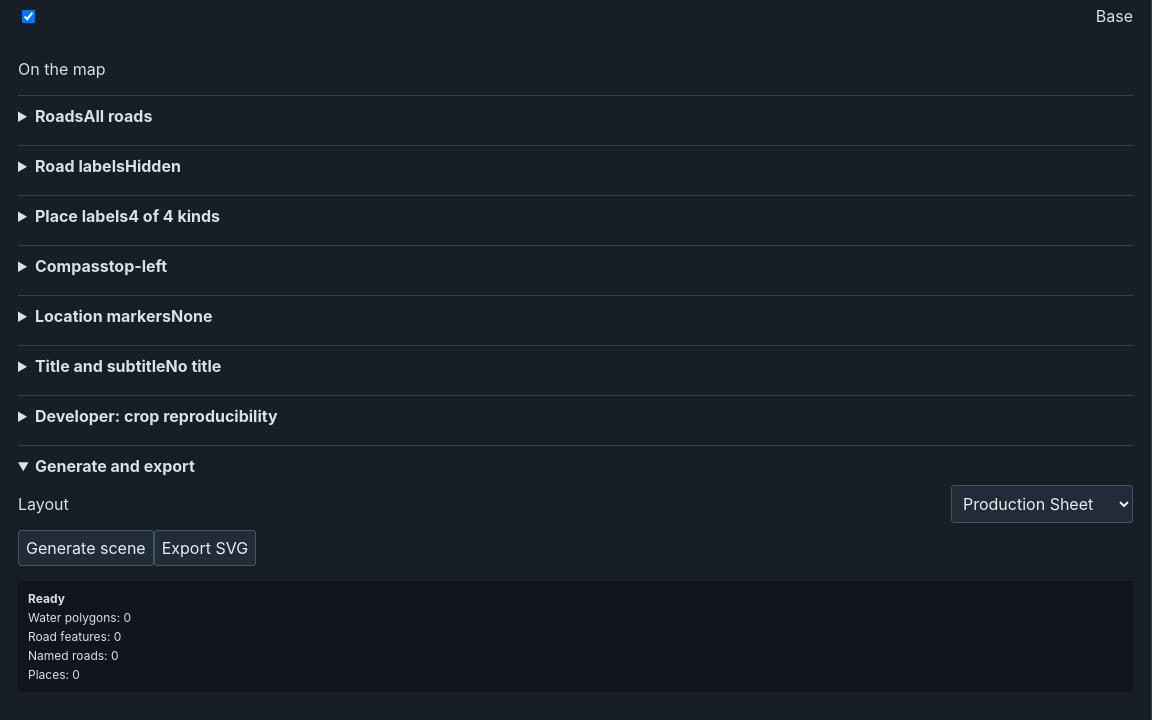
Test: Controls: title and subtitle › typing a title updates the section summary live
(page scrolled)
Expected: the text "No title" is shown, x1=166 y1=356 x2=221 y2=376
Replace the text in the field named "Title text" with "Caldron Falls": (576, 370) x1=18 y1=345 x2=1133 y2=395
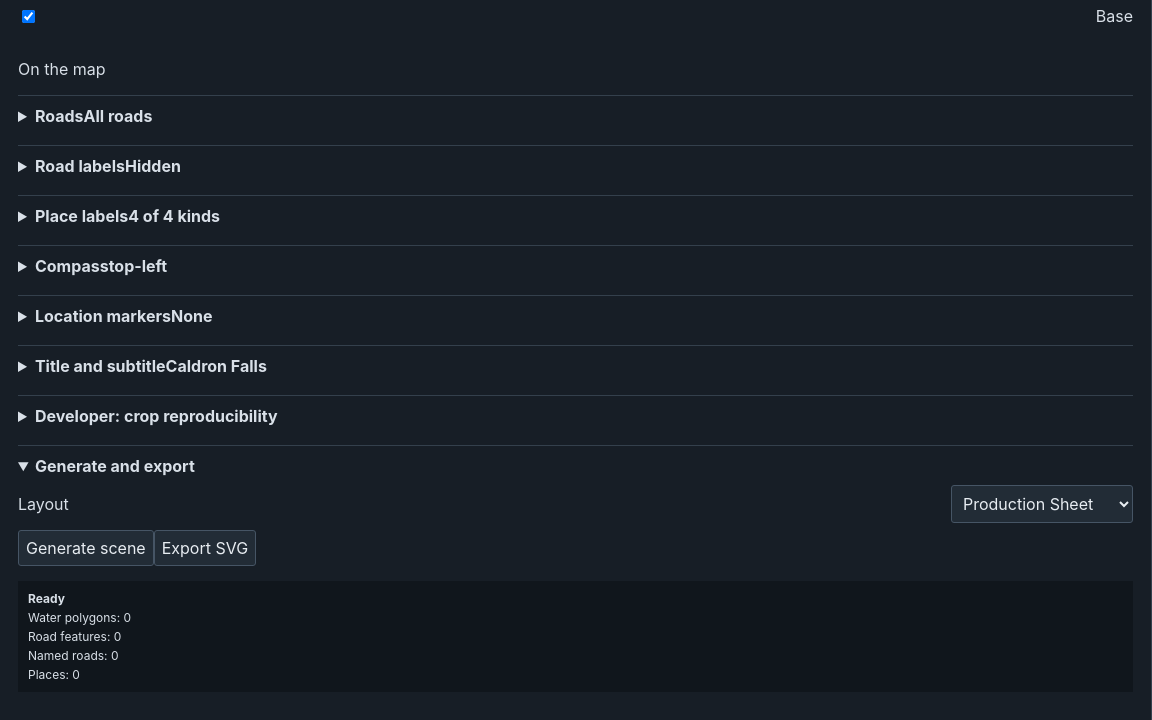
Now the text "Caldron Falls" is shown, box x1=166 y1=356 x2=267 y2=376
